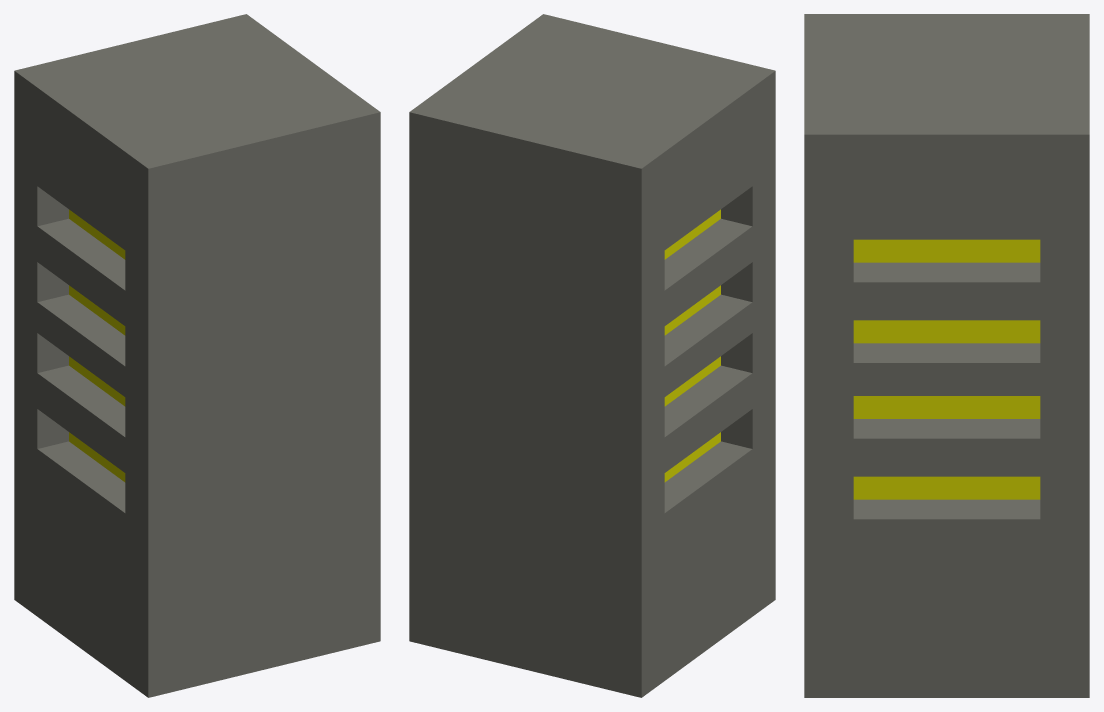
File: Barile.fbx
The picture shows the model from 3 angles, left to right: view 1: azimuth 30°, elevation 25°; view 2: azimuth 150°, elevation 25°; view 3: azimuth 270°, elevation 25°; orthographic projection. The views are drawn at different scales.
Parts seen in each view (by area): view 1: Barile_esplosivo; view 2: Barile_esplosivo; view 3: Barile_esplosivo.
Boxes of the visible parts, bbox=[...] form: Barile_esplosivo: bbox=[14, 14, 380, 697]; Barile_esplosivo: bbox=[409, 14, 775, 697]; Barile_esplosivo: bbox=[804, 14, 1089, 697].
Size of the model in its own units: 0.7695 by 1.68 by 0.7695.
